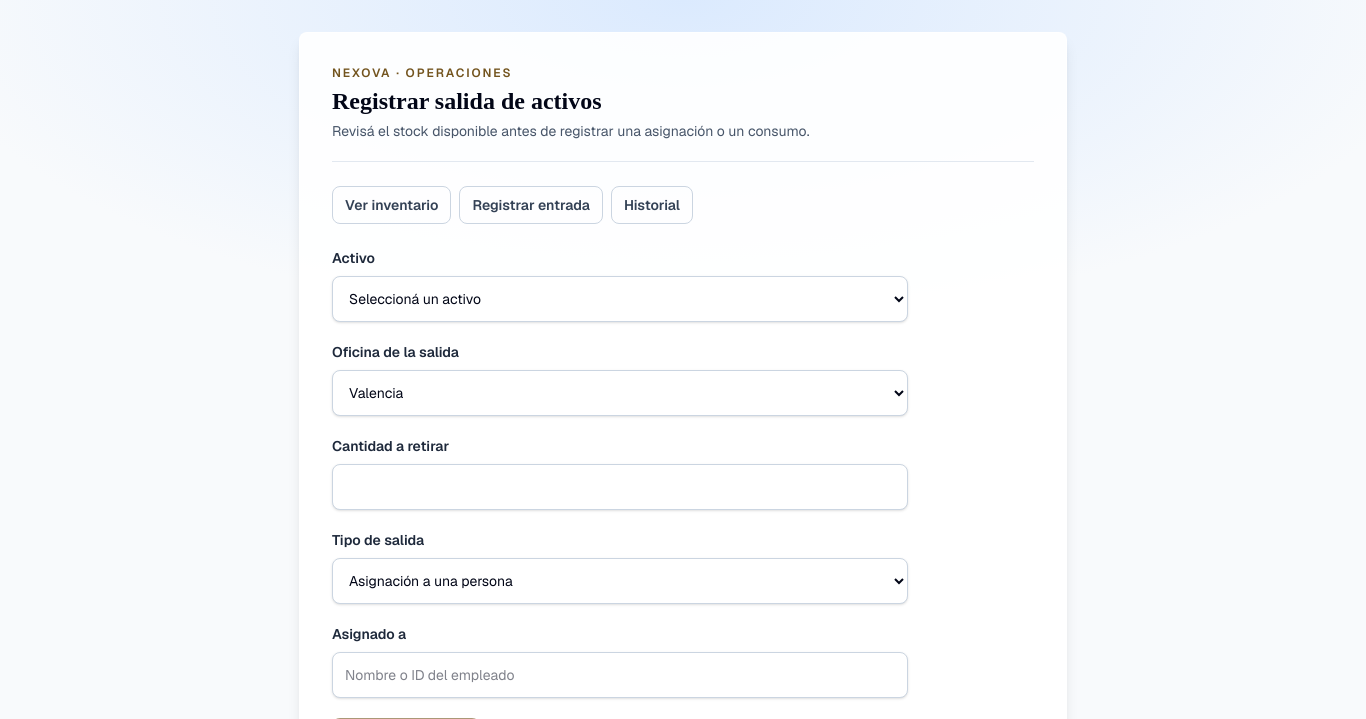
OutboundOrderPage › actualiza el stock inmediatamente al cambiar el activo seleccionado
This screenshot has width=1366, height=719.
Select "Portátil 14\" Business (NXV-IT-001) · Valencia" in the dropdown labelled "Activo" at {"x": 620, "y": 299}, box [332,276,908,322]
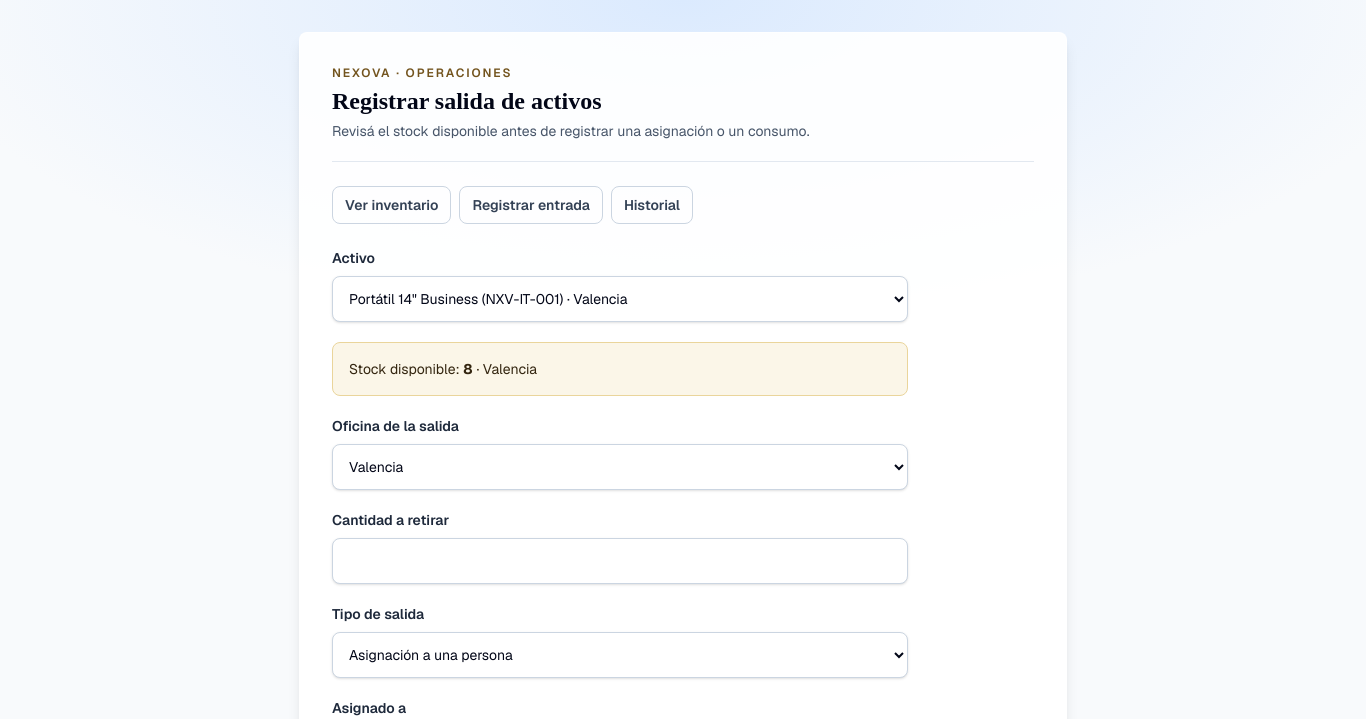
Expected: the dropdown labelled "Oficina de la salida" shows "Valencia", [332,444,908,490]
Now the element with test id "available-stock" shows "Stock disponible: 8", box [332,342,908,396]
Select "Hub USB-C (NXV-PER-002) · Miami" in the dropdown labelled "Activo" at {"x": 620, "y": 299}, box [332,276,908,322]
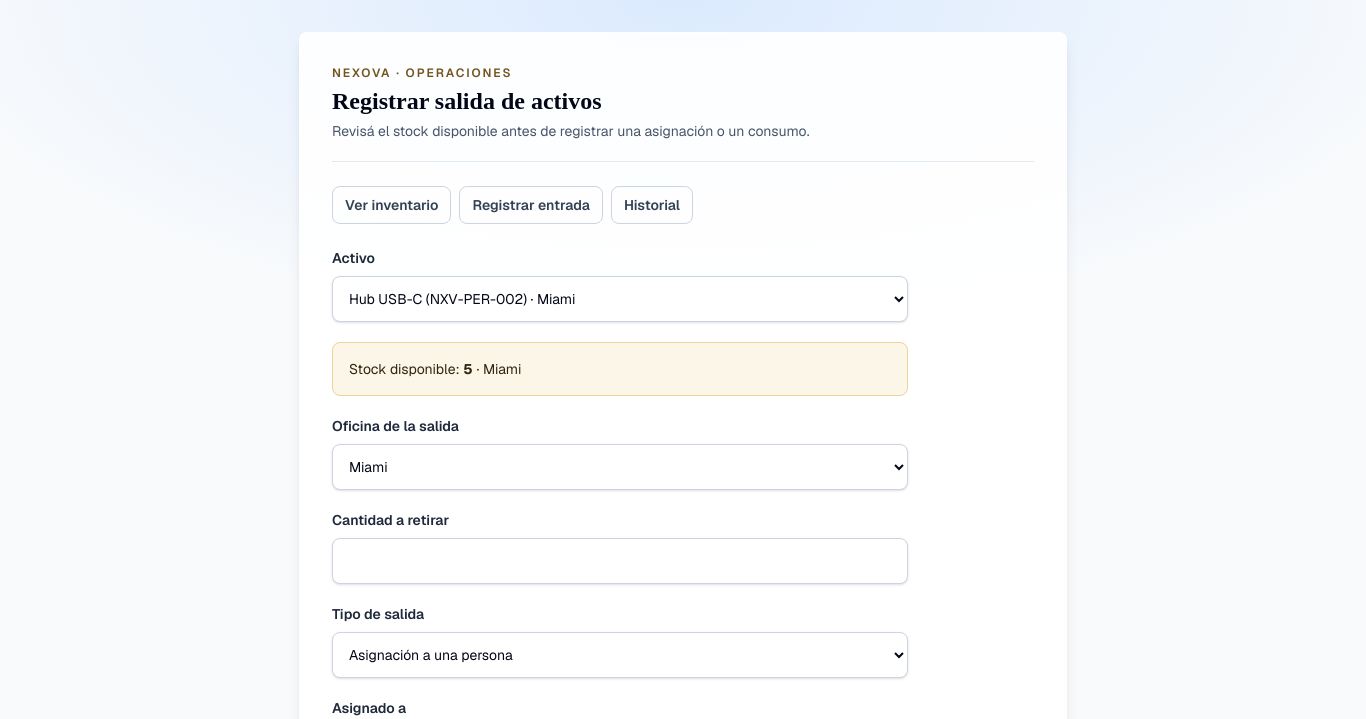
Now the element with test id "available-stock" shows "Stock disponible: 5", box [332,342,908,396]
Now the element with test id "available-stock" shows "Miami", box [483,360,521,378]
Now the dropdown labelled "Oficina de la salida" shows "Miami", box [332,444,908,490]
